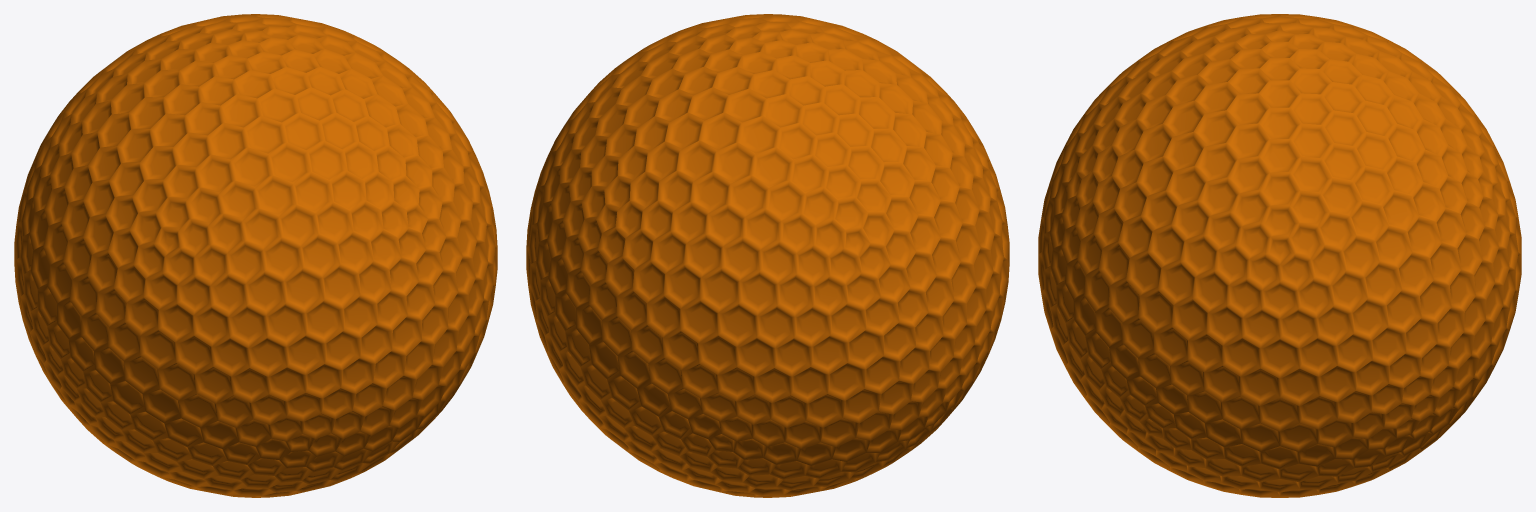
File: OrangeBall.fbx
The picture shows the model from 3 angles, left to right: view 1: azimuth 30°, elevation 25°; view 2: azimuth 150°, elevation 25°; view 3: azimuth 270°, elevation 25°; orthographic projection.
Parts seen in each view (by area): view 1: GolfBall; view 2: GolfBall; view 3: GolfBall.
Part boxes in pixels (x1,y1,x2,y2): GolfBall: [14, 14, 497, 497]; GolfBall: [526, 14, 1009, 497]; GolfBall: [1038, 14, 1521, 497].
Size of the model in its own units: 37.86 by 38 by 37.87.
